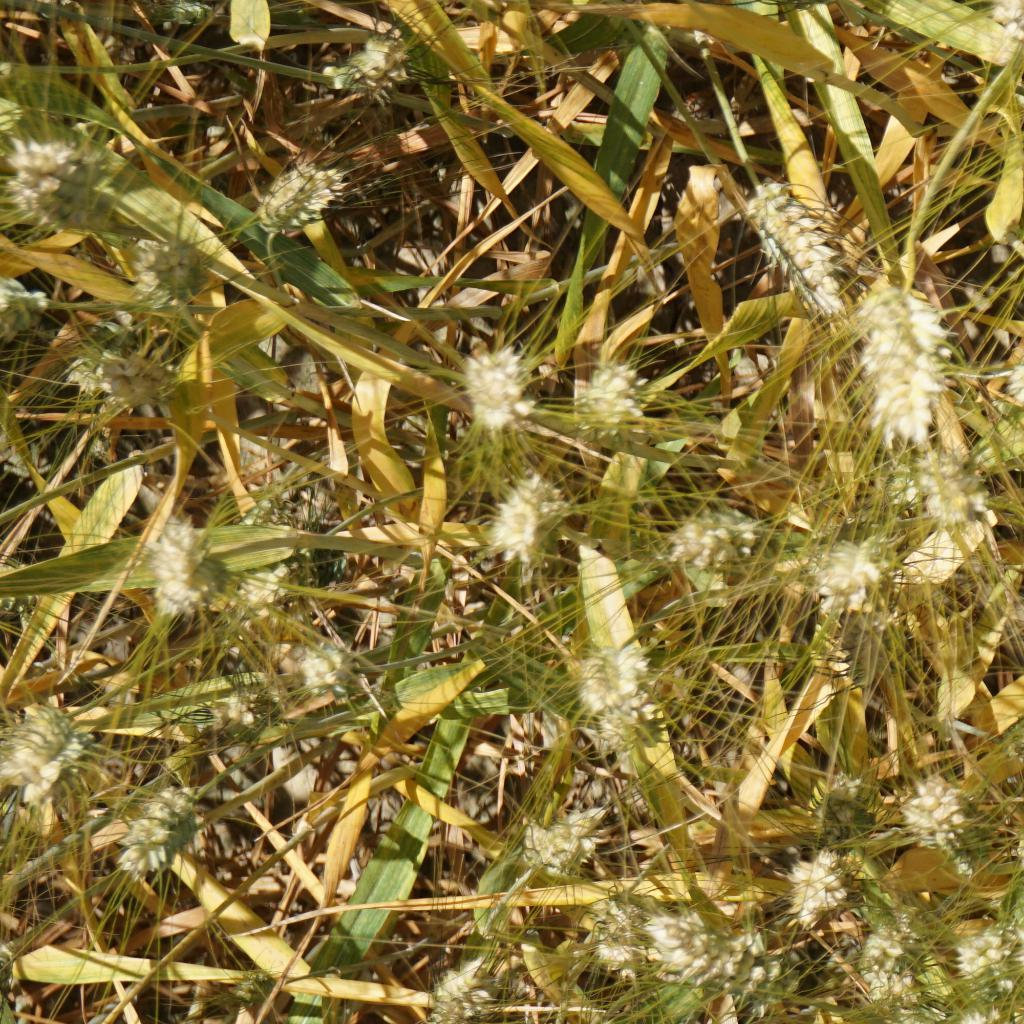0-0: (740, 161, 856, 323), (848, 273, 947, 437), (214, 525, 374, 625), (563, 625, 670, 765), (2, 123, 118, 226), (643, 900, 758, 999), (62, 336, 197, 415), (663, 492, 777, 584), (580, 884, 664, 991), (346, 21, 442, 112), (114, 770, 200, 870), (108, 218, 212, 299), (444, 330, 533, 423), (2, 707, 90, 801), (249, 145, 338, 236), (466, 456, 555, 547), (799, 516, 888, 604), (283, 630, 372, 716), (507, 799, 608, 874), (793, 761, 878, 850), (153, 512, 224, 616), (905, 439, 986, 521), (886, 761, 966, 844), (195, 672, 287, 743), (777, 858, 866, 923), (848, 931, 921, 1000), (582, 360, 649, 431), (943, 925, 1006, 1000), (0, 272, 43, 346), (441, 961, 496, 1014), (164, 0, 233, 33), (998, 909, 1024, 990), (980, 0, 1024, 39), (1010, 332, 1024, 427)
